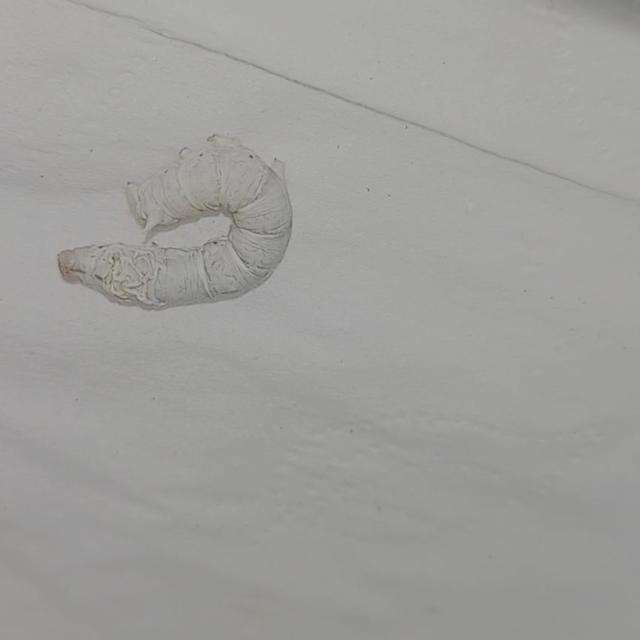Healthy: (48, 106, 309, 329)
